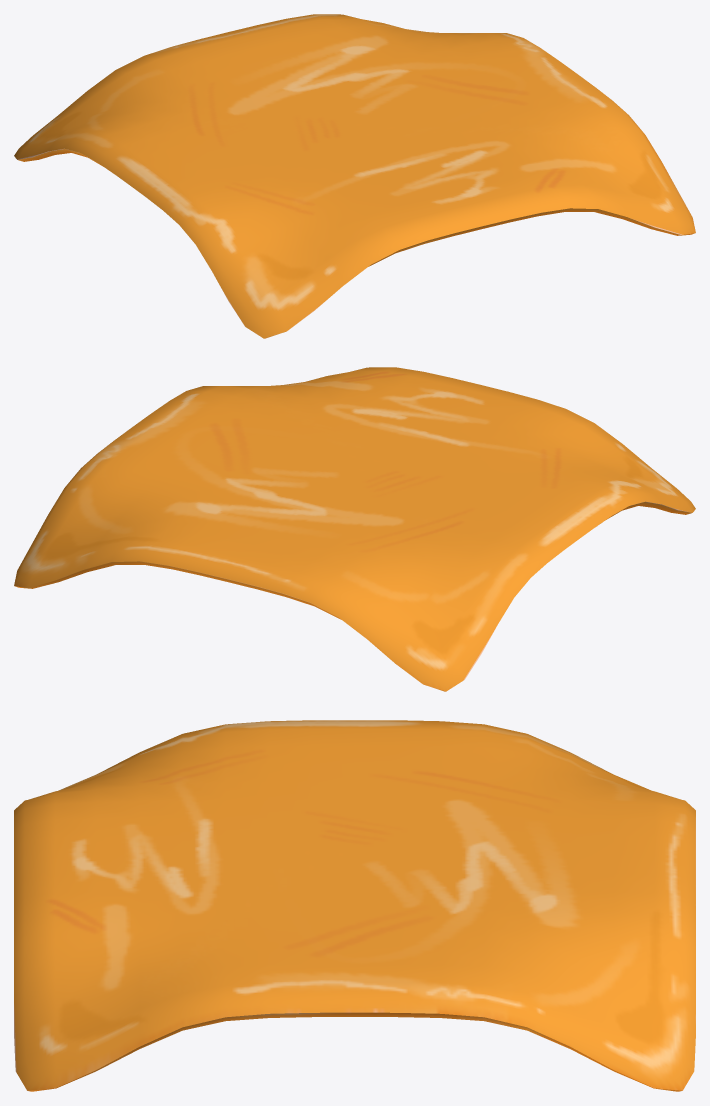
Rendered from Cheese.glb.
3 views of the same model, one above another, from view 1: azimuth 30°, elevation 25°; view 2: azimuth 150°, elevation 25°; view 3: azimuth 270°, elevation 25° (orthographic). The views are drawn at different scales.
Parts seen in each view (by area): view 1: Cheese; view 2: Cheese; view 3: Cheese.
Boxes of the visible parts, left/top/right/bottom form: Cheese: left=14, top=14, right=695, bottom=338; Cheese: left=14, top=367, right=695, bottom=691; Cheese: left=14, top=720, right=695, bottom=1091.
Size of the model in its own units: 5.14 by 0.832 by 5.14.
1 material, 1 textured.
